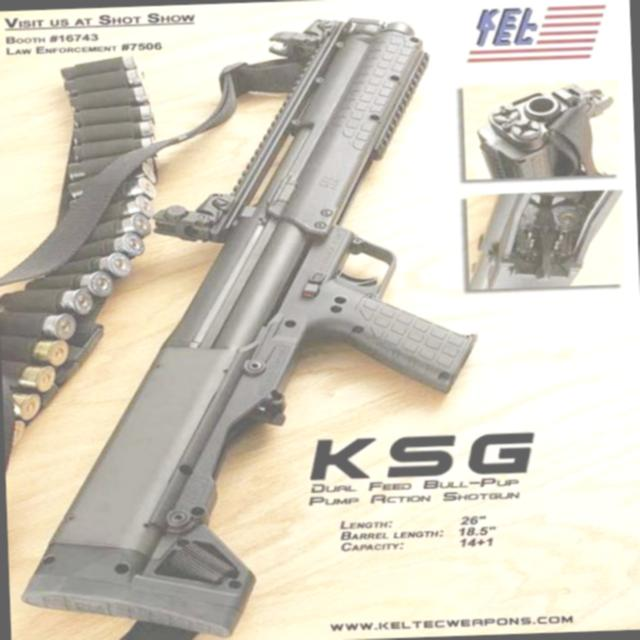shotgun: (0, 0, 499, 640)
